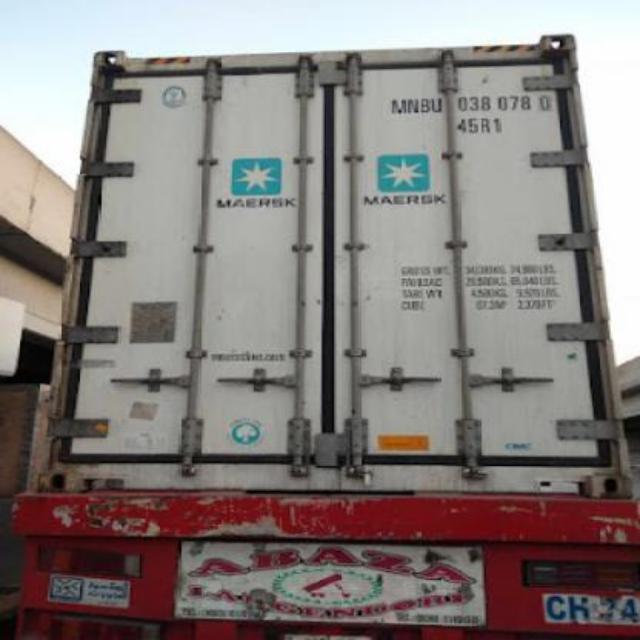0: (494, 94, 508, 110), (458, 94, 468, 110), (540, 96, 550, 112)
3: (470, 95, 480, 108)
7: (508, 95, 520, 108)
8: (520, 94, 530, 110), (480, 96, 490, 110)
B: (418, 98, 432, 112)
M: (388, 97, 408, 115)
N: (408, 98, 420, 112)
U: (431, 96, 444, 112)
